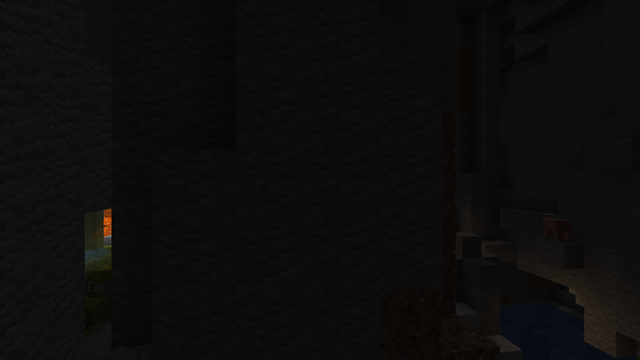cochons: (539, 216, 568, 240)
